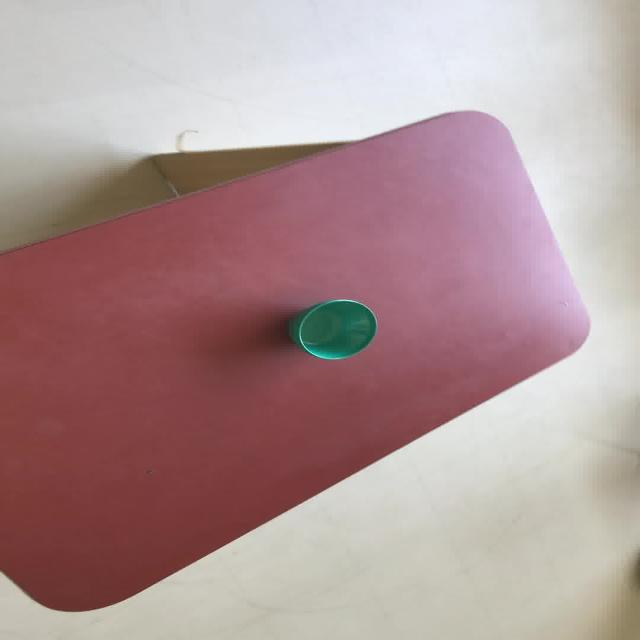bowl: (1, 108, 590, 611), (287, 298, 378, 360)
